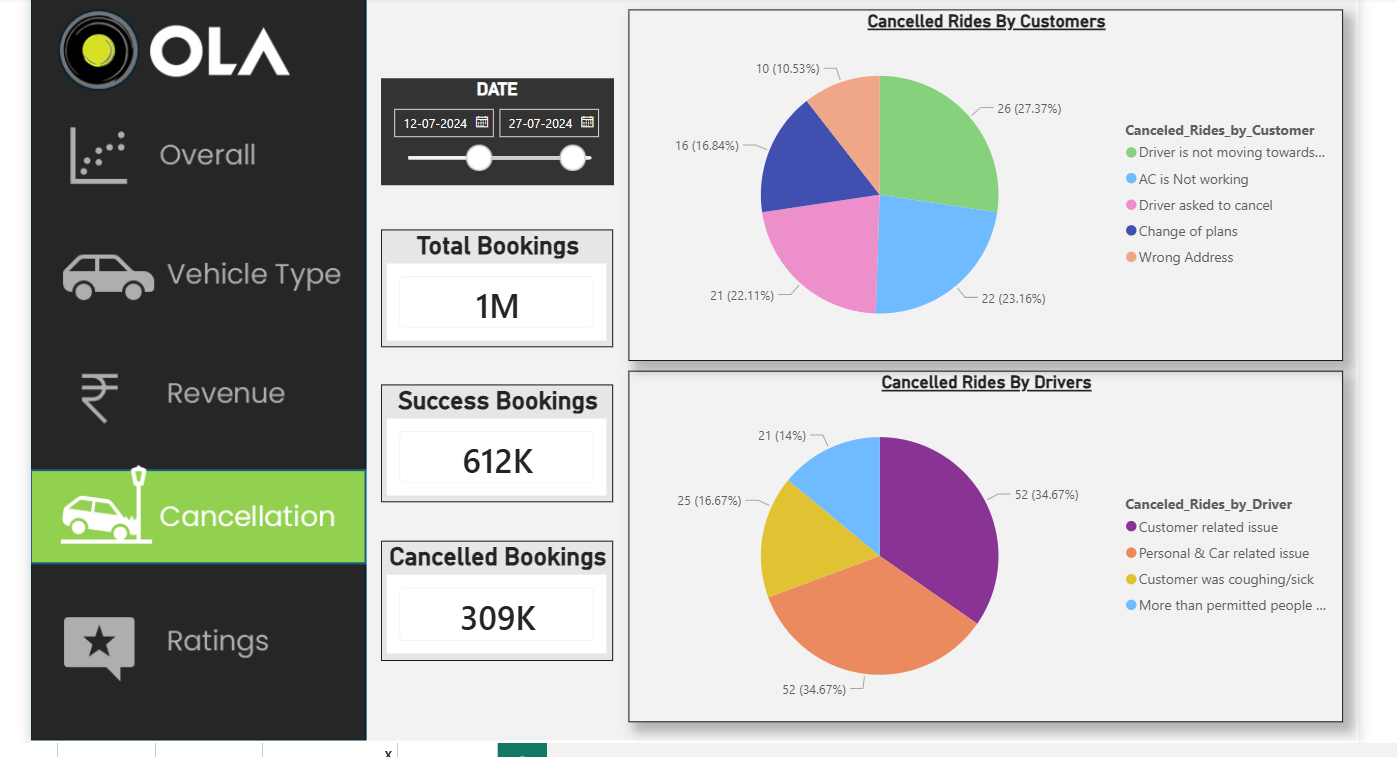

The page's visual inventory and layout, read from the dashboard file:
{"tool":"powerbi","page":{"name":"Cancellation","canvas":[1280,720],"ordinal":3},"visuals":[{"type":"actionButton","box":[0,223.8,322.5,92.5],"z":0},{"type":"actionButton","box":[0,338.8,322.5,92.5],"z":1000},{"type":"actionButton","box":[0,582.5,322.5,92.5],"z":2000},{"type":"actionButton","box":[0,112.5,322.5,92.5],"z":3000},{"type":"pieChart","title":"Cancelled Rides By Customers","fields":{"Category":["Bookings.Canceled_Rides_by_Customer"],"Y":["CountNonNull(Bookings.Canceled_Rides_by_Customer)"]},"box":[577.1,11.5,689.6,339],"z":4000},{"type":"pieChart","title":"Cancelled Rides By Drivers","fields":{"Category":["Bookings.Canceled_Rides_by_Driver"],"Y":["CountNonNull(Bookings.Canceled_Rides_by_Driver)"]},"box":[577.1,360.7,689.6,339],"z":5000},{"type":"slicer","title":"DATE","fields":{"Values":["Bookings.Date"]},"box":[338.2,78.3,224.3,103.2],"z":6000},{"type":"cardVisual","title":"Total Bookings ","fields":{"Data":["Sum(Bookings.Booking_Value)"]},"box":[338.2,224.3,224.3,113.9],"z":7000},{"type":"cardVisual","title":"Success Bookings","fields":{"Data":["Sum(Bookings.Booking_Value)"]},"box":[338.2,373.8,224.3,113.9],"z":8000},{"type":"cardVisual","title":"Cancelled Bookings ","fields":{"Data":["Sum(Bookings.Booking_Value)"]},"box":[338.2,525,224.3,115.7],"z":9000}]}

Visuals, with their boxes on the page's 1280x720 design canvas (x1, y1, x2, y2). These are canvas units, not pixel positions in the 1397x757 screenshot, which may show the page scaled, cropped or inside an application window:
actionButton: [0,224,322,316]
actionButton: [0,339,322,431]
actionButton: [0,582,322,675]
actionButton: [0,112,322,205]
"Cancelled Rides By Customers" pieChart: [577,12,1267,350]
"Cancelled Rides By Drivers" pieChart: [577,361,1267,700]
"DATE" slicer: [338,78,562,182]
"Total Bookings " cardVisual: [338,224,562,338]
"Success Bookings" cardVisual: [338,374,562,488]
"Cancelled Bookings " cardVisual: [338,525,562,641]
